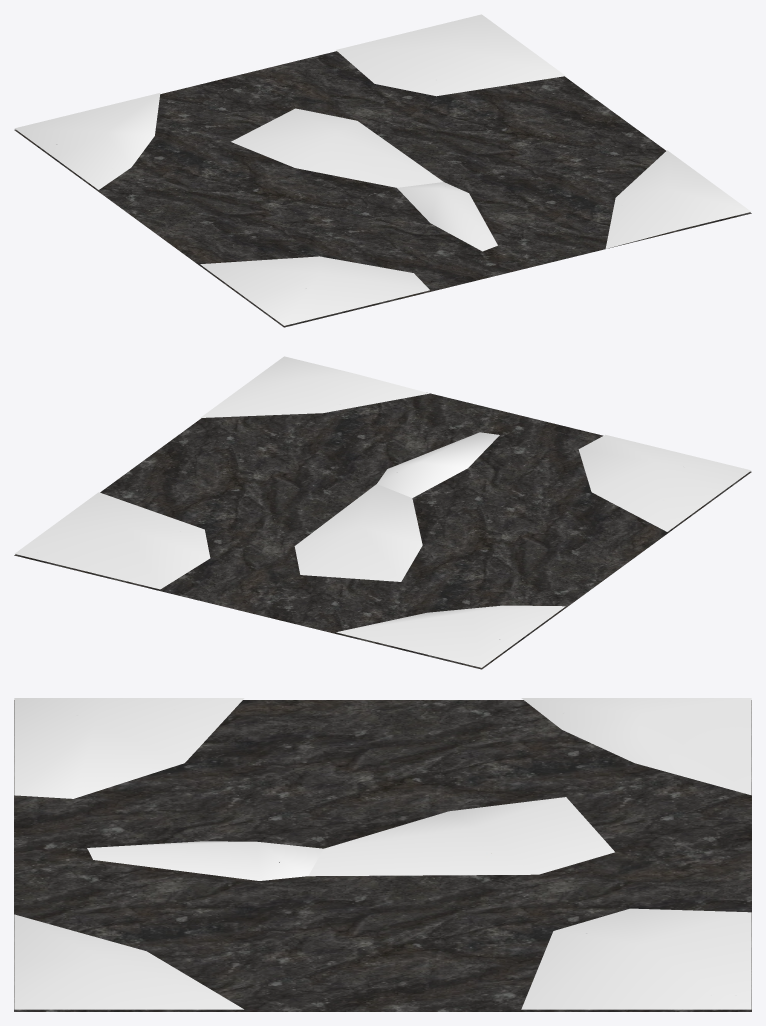
Rendered from garden-05-art.glb.
3 renders of one model, top to bottom at view 1: azimuth 30°, elevation 25°; view 2: azimuth 150°, elevation 25°; view 3: azimuth 270°, elevation 25°, orthographic. The views are drawn at different scales.
Visible parts, largest first — view 1: Garden_05_Art; view 2: Garden_05_Art; view 3: Garden_05_Art.
Part boxes in pixels (<box>): Garden_05_Art: <box>14,14,751,327</box>; Garden_05_Art: <box>14,356,751,669</box>; Garden_05_Art: <box>14,698,751,1011</box>.
Size of the model in its own units: 15.98 by 0.5015 by 15.98.
2 materials, 2 textured.
